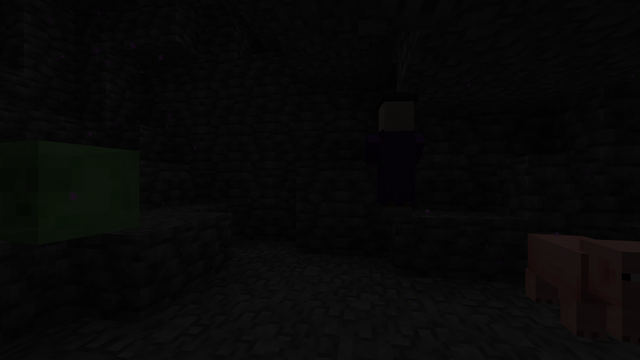cochons: (516, 232, 626, 341)
slimes: (3, 136, 141, 244)
sorcieres: (376, 94, 417, 219)
